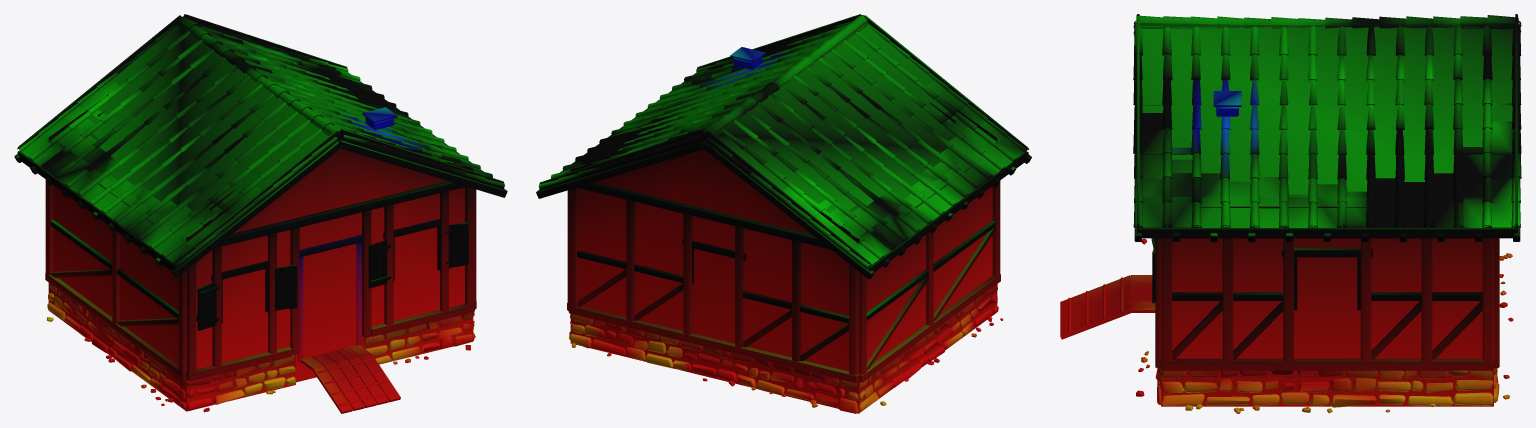
The model's file is valdora_t1_daub.glb.
3 views of the same model, side by side, from view 1: azimuth 30°, elevation 25°; view 2: azimuth 150°, elevation 25°; view 3: azimuth 270°, elevation 25° (orthographic). The views are drawn at different scales.
Parts seen in each view (by area): view 1: valdora_t1_daub_shell, valdora_t1_daub_far, valdora_t1_daub_detail; view 2: valdora_t1_daub_shell, valdora_t1_daub_far, valdora_t1_daub_detail; view 3: valdora_t1_daub_shell, valdora_t1_daub_far, valdora_t1_daub_detail.
Part boxes in pixels (x1,y1,x2,y2): valdora_t1_daub_shell: (14, 14, 507, 413); valdora_t1_daub_far: (48, 24, 473, 408); valdora_t1_daub_detail: (46, 107, 473, 412); valdora_t1_daub_shell: (536, 14, 1031, 413); valdora_t1_daub_far: (570, 24, 997, 408); valdora_t1_daub_detail: (571, 47, 1003, 407); valdora_t1_daub_shell: (1060, 14, 1521, 407); valdora_t1_daub_far: (1141, 26, 1513, 402); valdora_t1_daub_detail: (1136, 91, 1513, 413).
Bounding box in the file's own units: 7 × 5.09 × 6.93.
